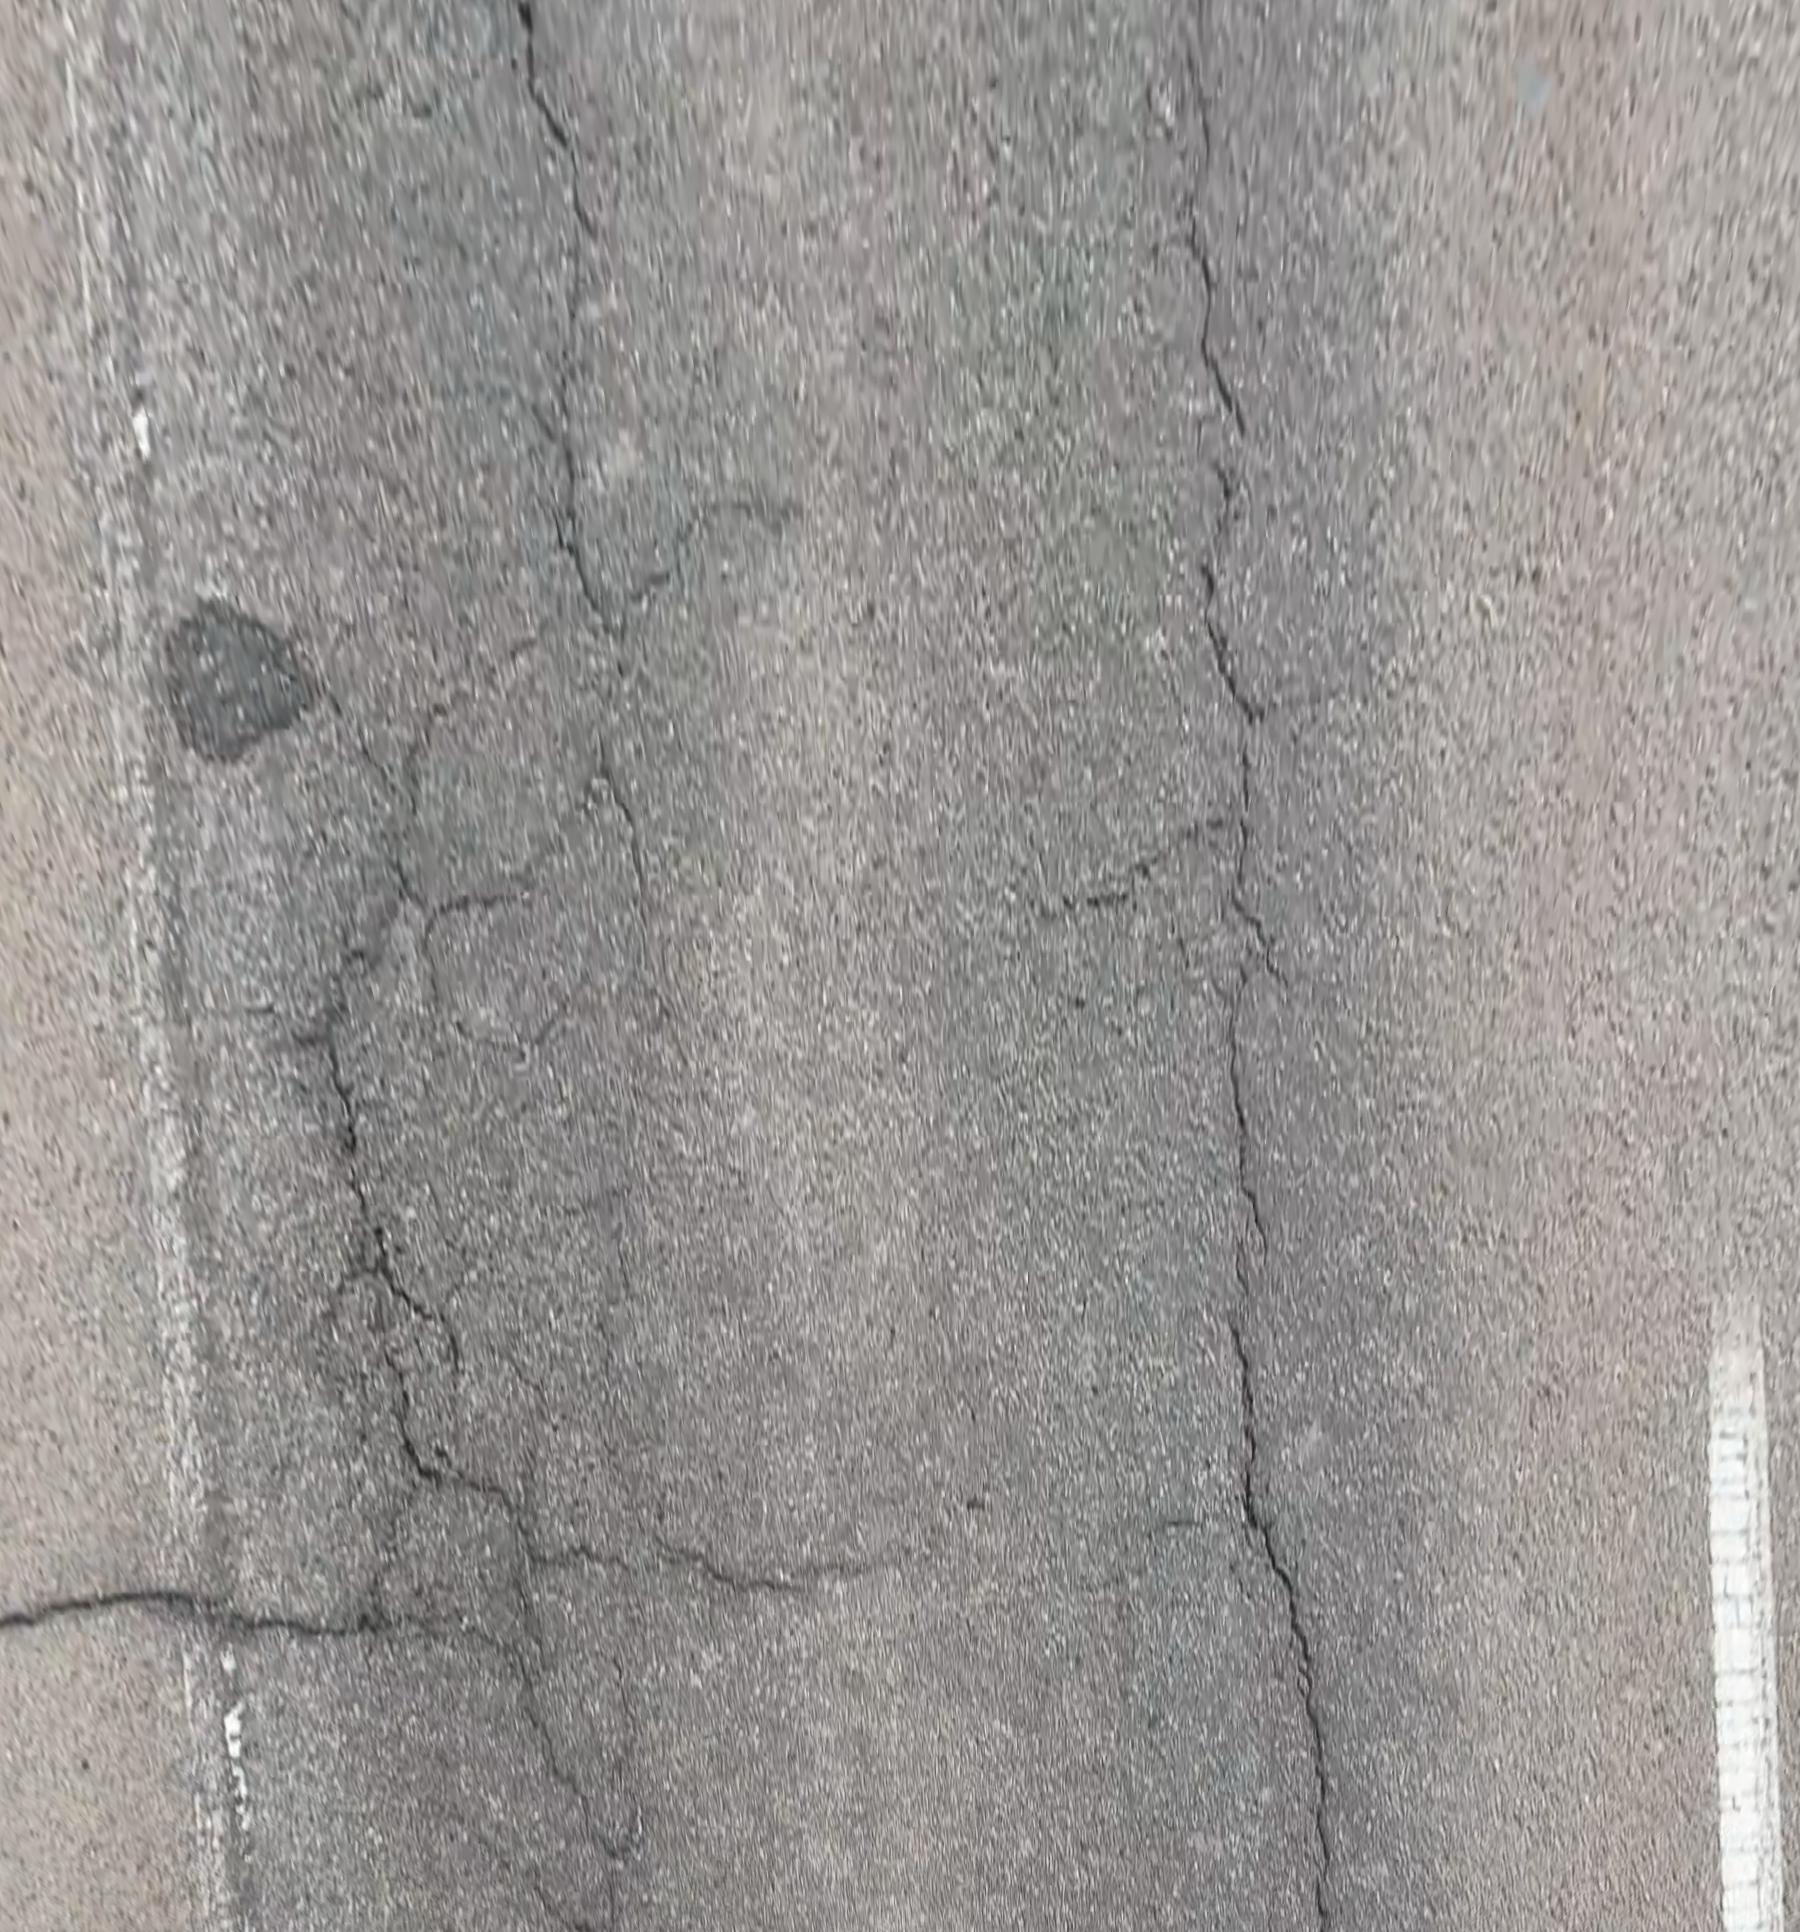pothole_patch_good: (167, 599, 306, 761)
